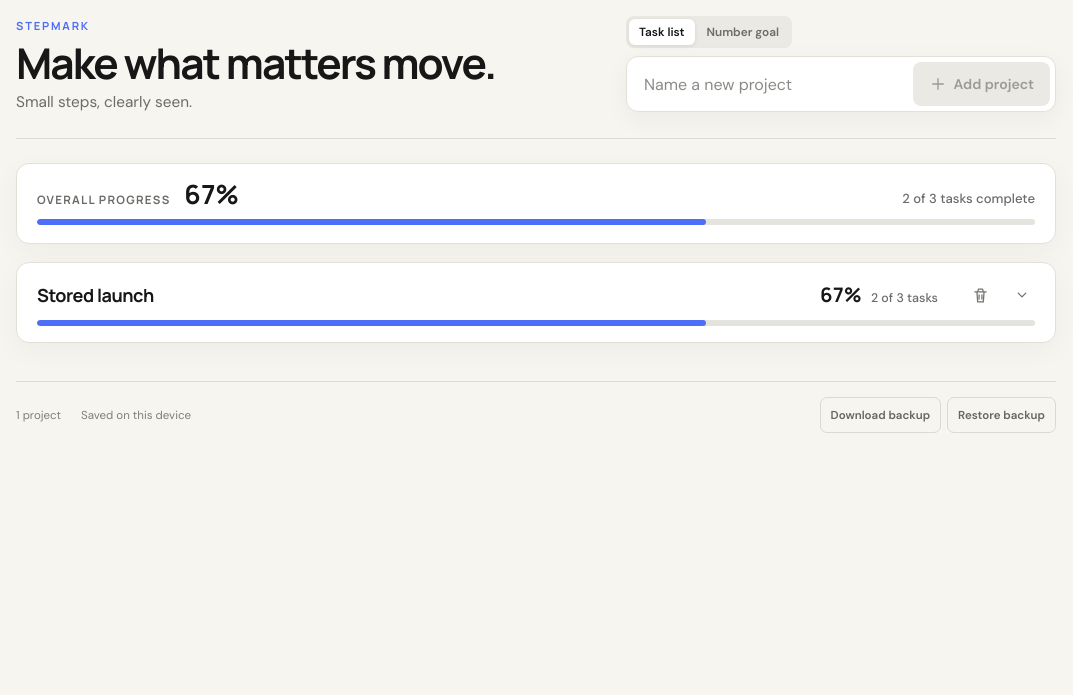
Test: project overview and disclosure › does not toggle disclosure when task and delete controls are used
Step 1. Click the button named "Expand Stored launch" → coordinates (1022, 295), box [1002, 275, 1042, 315]
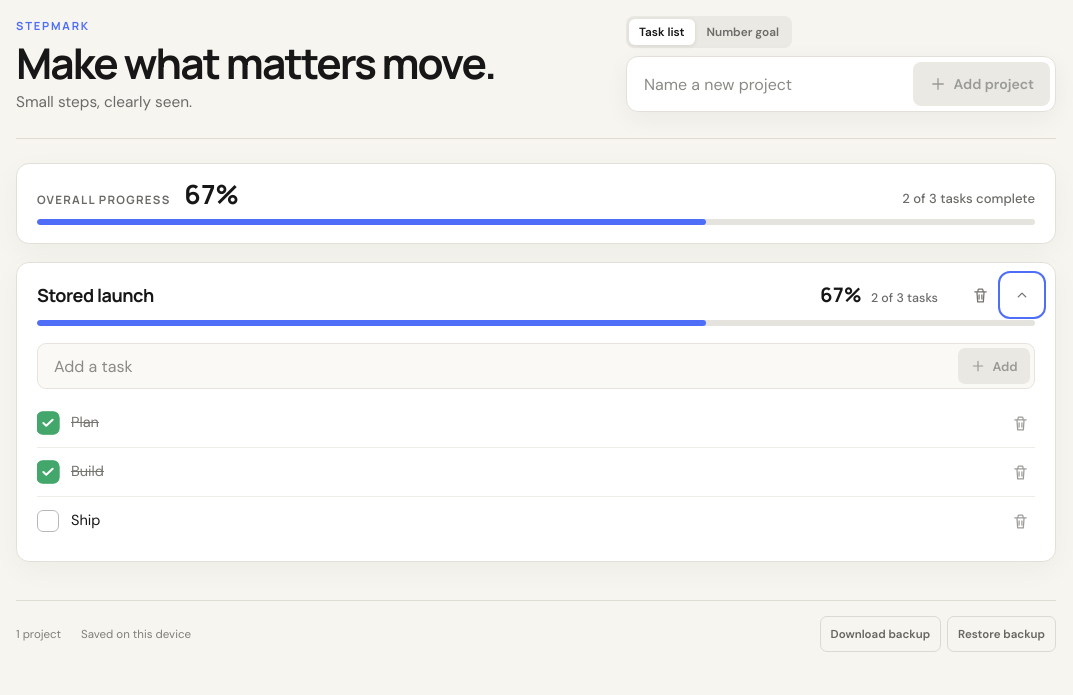
Step 2. Click the checkbox named "Mark Ship as complete" → coordinates (69, 521), box [37, 510, 100, 532]
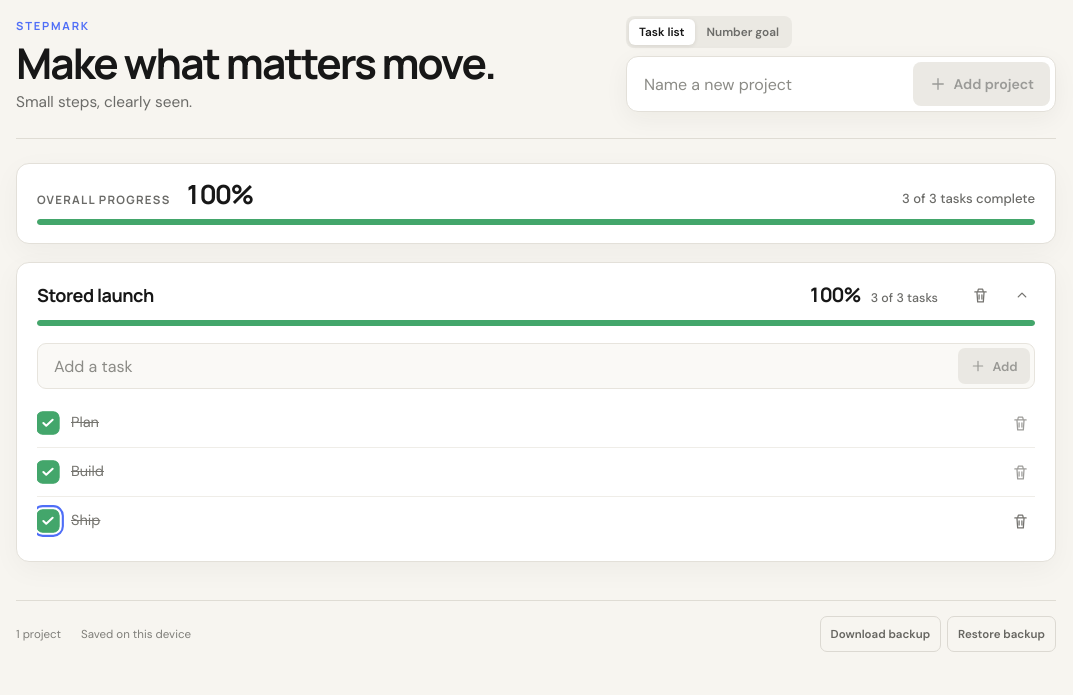
expect the button named "Collapse Stored launch" is shown: met, box [1002, 275, 1042, 315]
Step 3. Click the button named "Delete task Ship" → coordinates (1020, 521), box [1000, 501, 1040, 541]
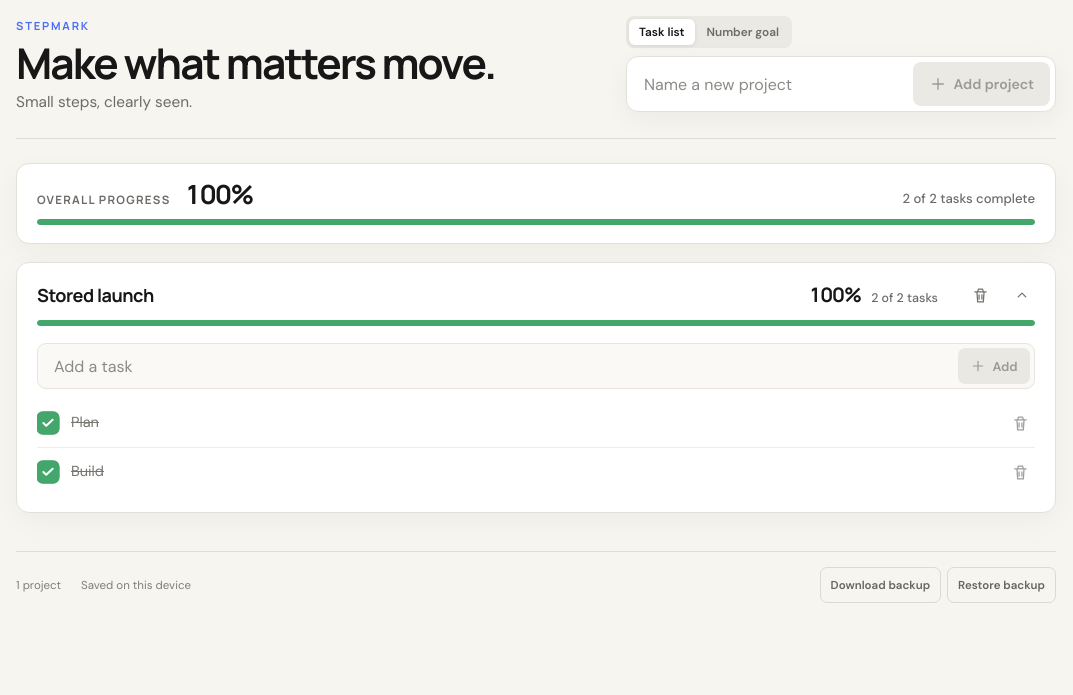
expect the button named "Collapse Stored launch" is shown: met, box [1002, 275, 1042, 315]
Step 4. Click the button named "Delete project Stored launch" → coordinates (980, 295), box [960, 275, 1000, 315]
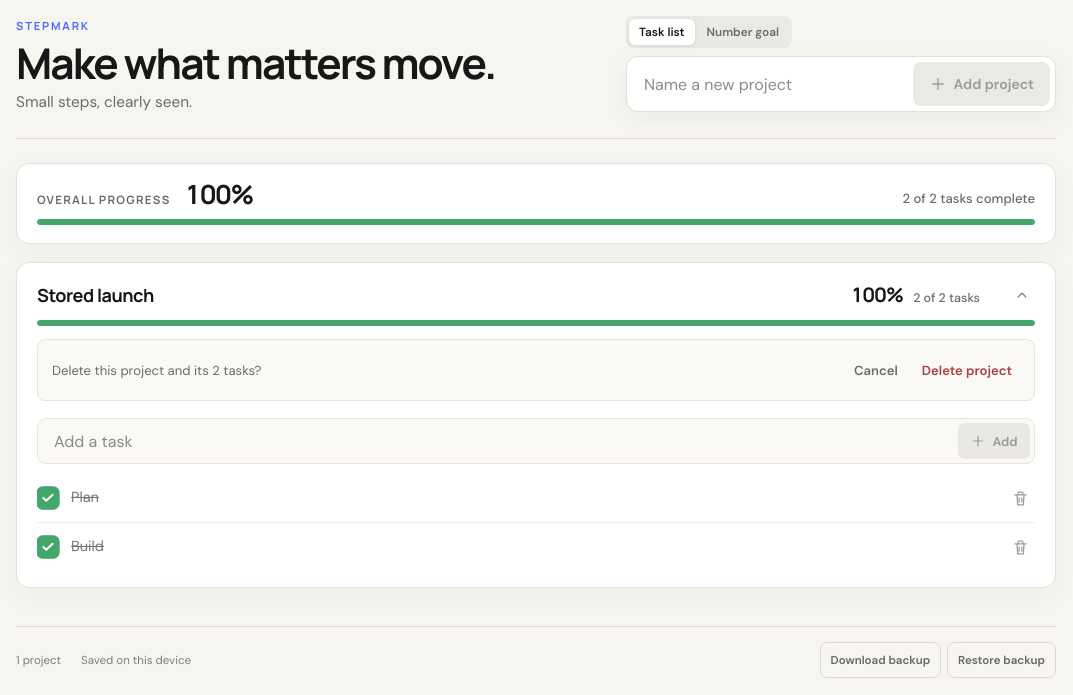
expect the button named "Collapse Stored launch" is shown: met, box [1002, 275, 1042, 315]
expect the element named "Confirm deletion of Stored launch" is shown: met, box [37, 339, 1035, 401]
